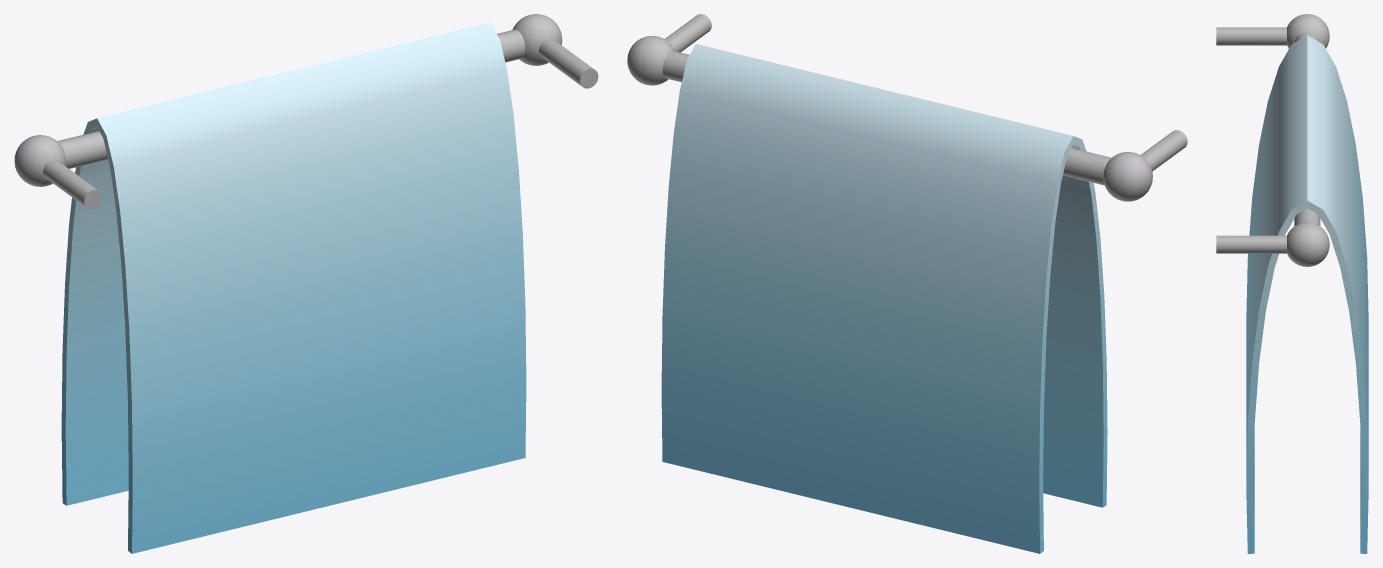
Rendered from TowelRack.FBX.
3 views of the same model, side by side, from view 1: azimuth 30°, elevation 25°; view 2: azimuth 150°, elevation 25°; view 3: azimuth 270°, elevation 25° (orthographic). The views are drawn at different scales.
Visible parts, largest first — view 1: Ellipse001, Cylinder001; view 2: Ellipse001, Cylinder001; view 3: Ellipse001, Cylinder001.
Boxes of the visible parts, x1,y1,x2,y2 form: Ellipse001: (61,22,526,553); Cylinder001: (14,14,598,209); Ellipse001: (661,44,1107,553); Cylinder001: (627,14,1187,201); Ellipse001: (1246,35,1368,553); Cylinder001: (1216,14,1329,266).
Size of the model in its own units: 154 by 112 by 43.76.
Materials: 1 (1 with a texture image).
